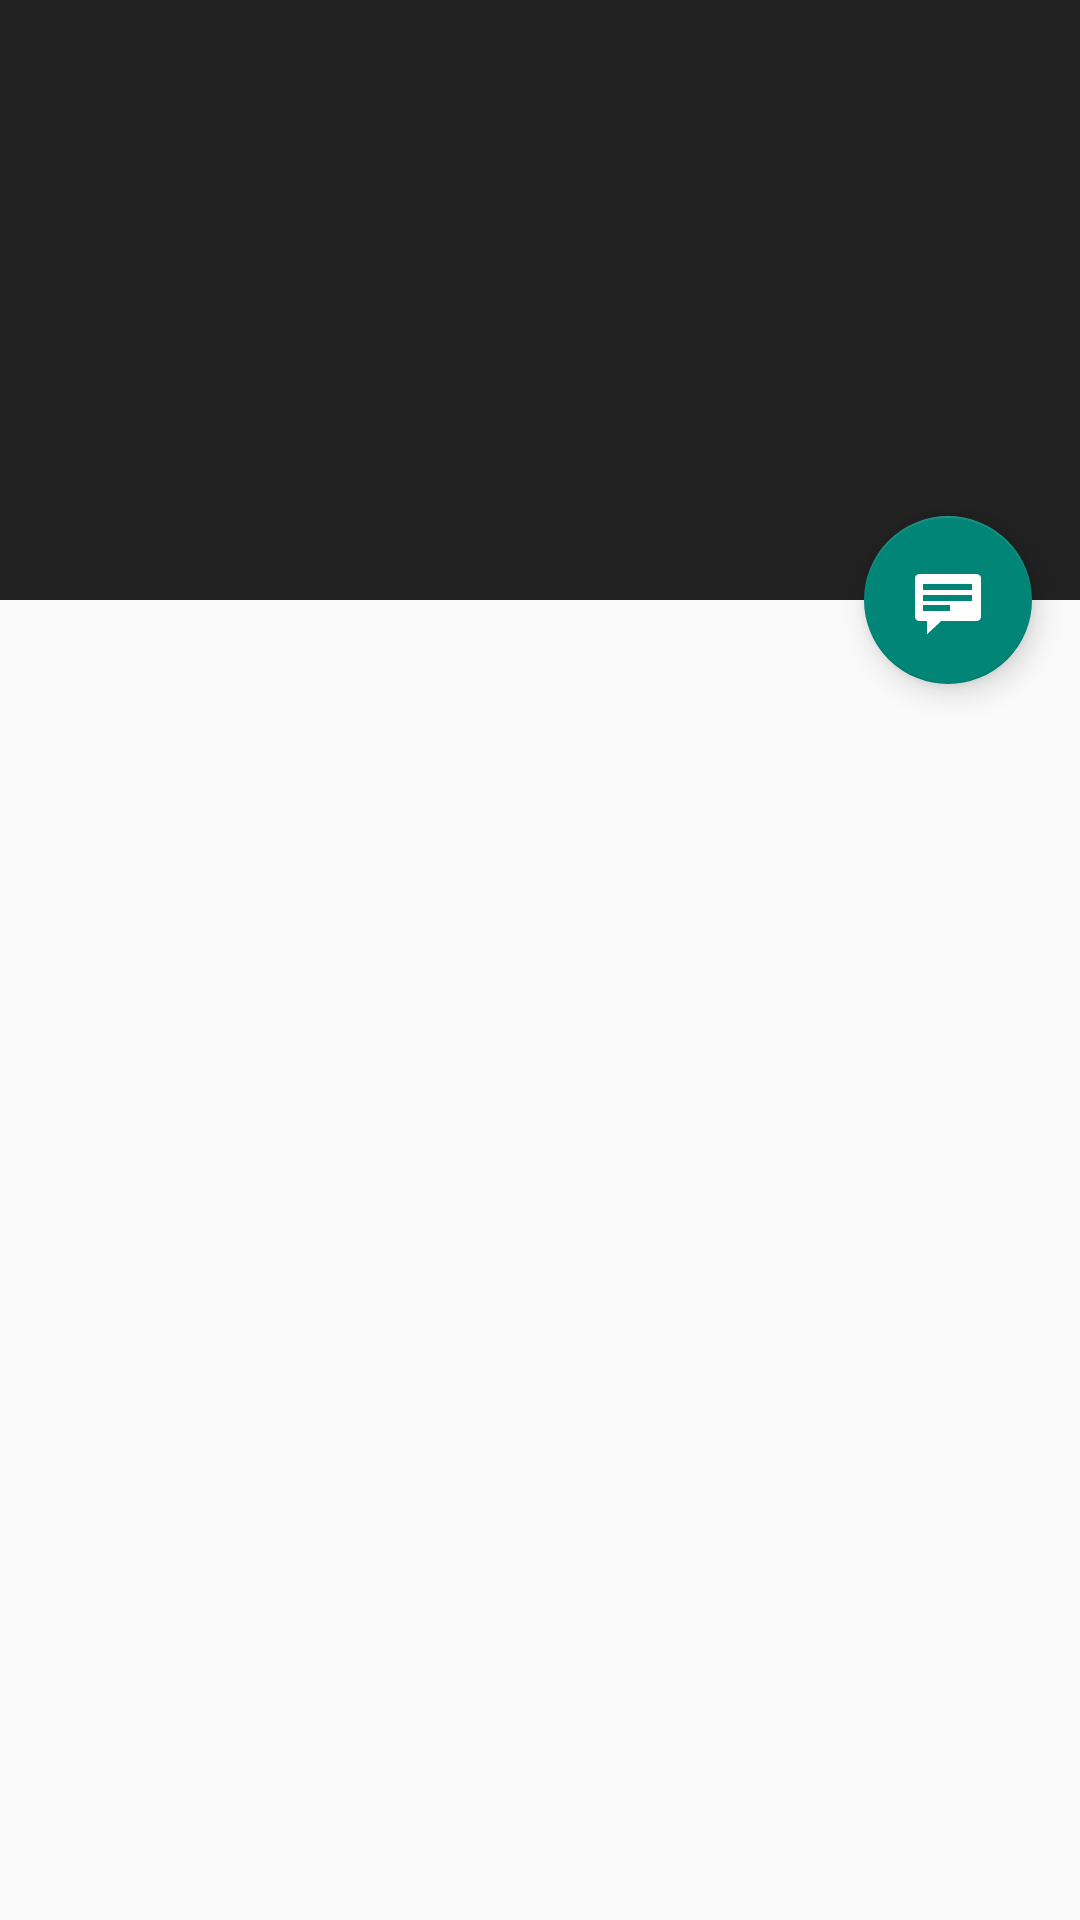

Screen size 1080px×1920px. Icon name, then its center in pixels as point (x, y):
chat: point (948, 600)
